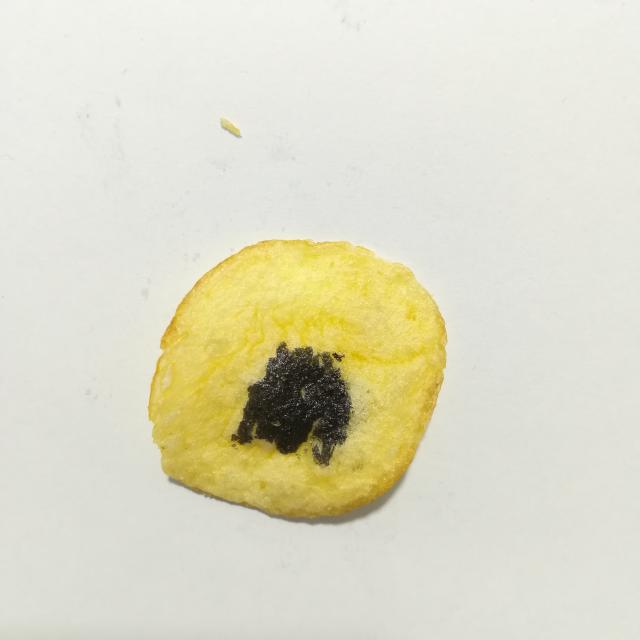chip: (148, 240, 446, 517)
damaged: (232, 342, 352, 466)
